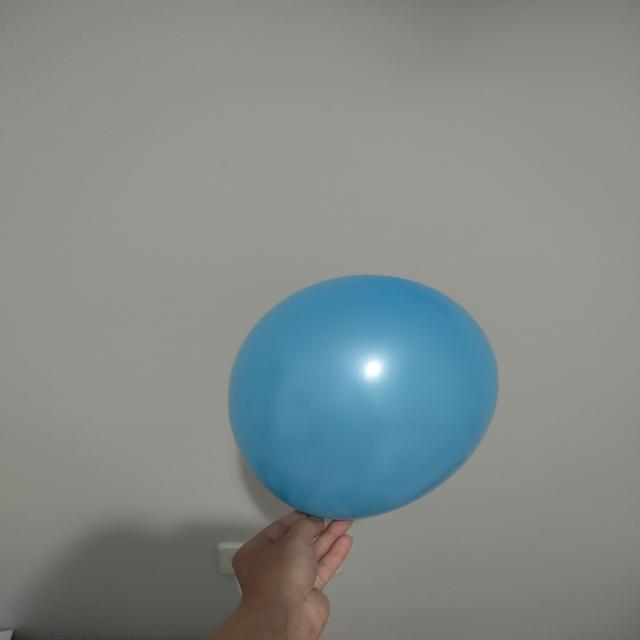blue: (230, 277, 498, 520)
